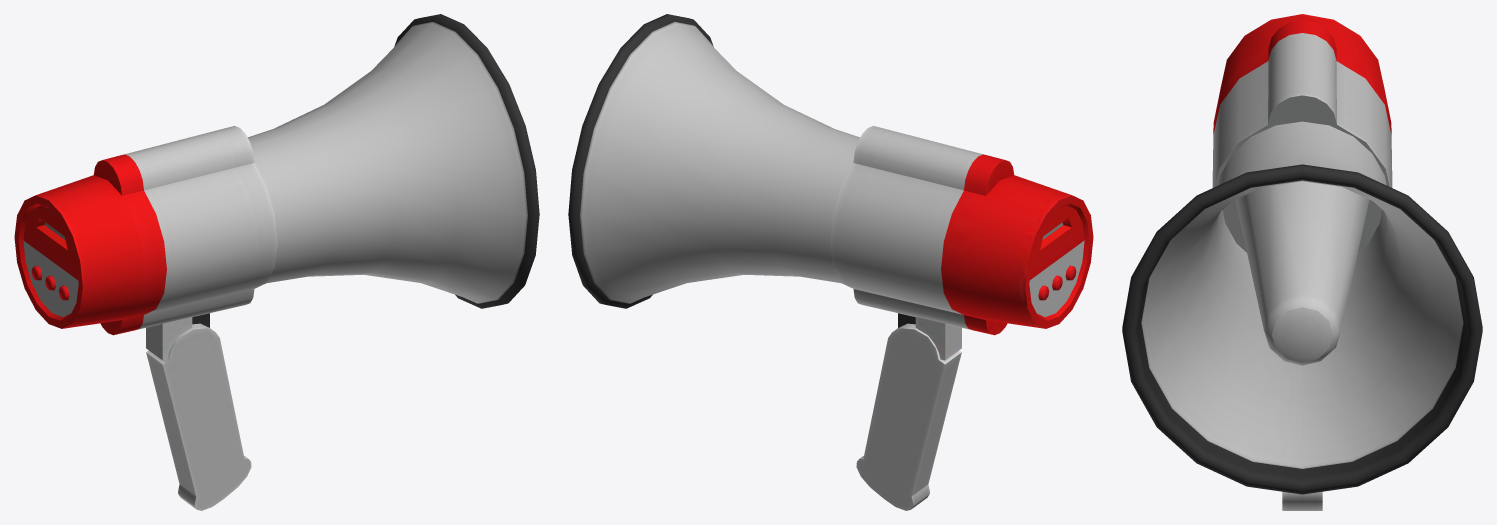
File: item-05.glb
3 views of the same model, side by side, from view 1: azimuth 30°, elevation 25°; view 2: azimuth 150°, elevation 25°; view 3: azimuth 270°, elevation 25° (orthographic). The views are drawn at different scales.
Parts seen in each view (by area): view 1: Megaphone; view 2: Megaphone; view 3: Megaphone.
Part boxes in pixels (left/top/right/bottom): Megaphone: left=14, top=14, right=539, bottom=510; Megaphone: left=568, top=14, right=1093, bottom=510; Megaphone: left=1122, top=14, right=1482, bottom=510.
Bounding box in the file's own units: 0.9102 × 0.8462 × 0.557.
Materials: 1 (1 with a texture image).
